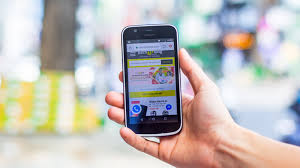nokia: (121, 21, 185, 141)
